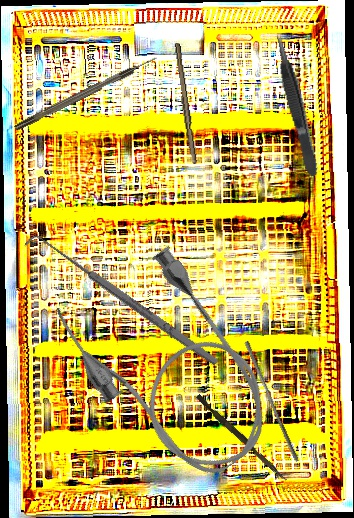Cannula: (44, 233, 295, 504)
Hook Surgical: (24, 227, 221, 375), (13, 54, 159, 132)
Pusher: (193, 394, 291, 482), (240, 339, 304, 464)
Scalpel Handle: (171, 42, 199, 165)
Tissue Forceps: (270, 32, 321, 179)
